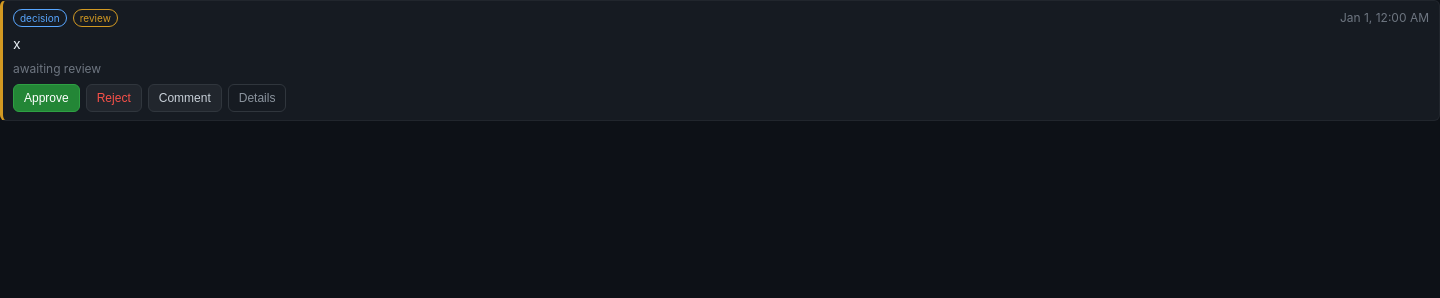
Scenario: LedgerEntryCard › keeps Details available while writing a rejection
Click the button "Reject".
click(114, 98)  # box [86,84,142,112]
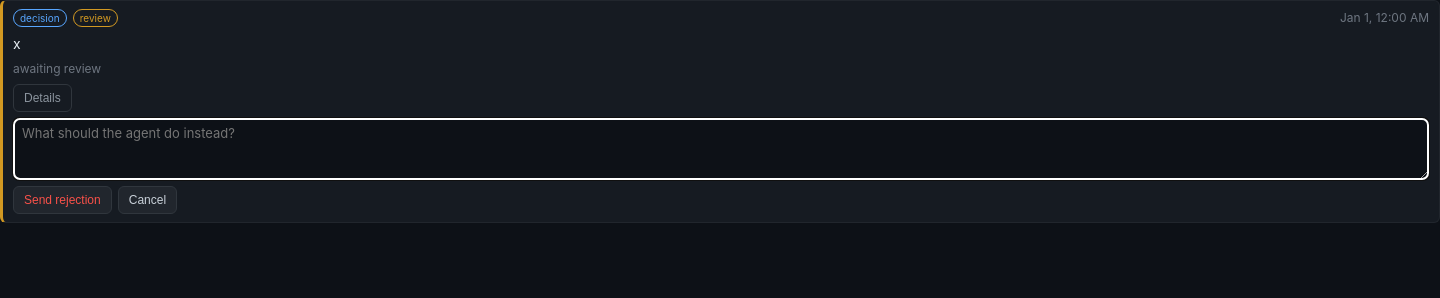
Click the button "Details".
click(42, 98)  # box [13,84,72,112]
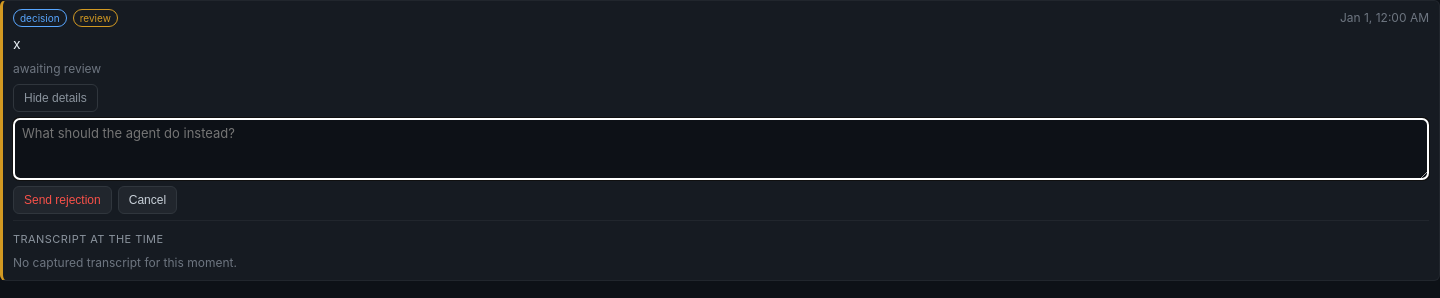
Check: the text box is shown, box [13,118,1429,180]
Check: the text "No captured transcript for this moment." is shown, box [13,254,237,270]
